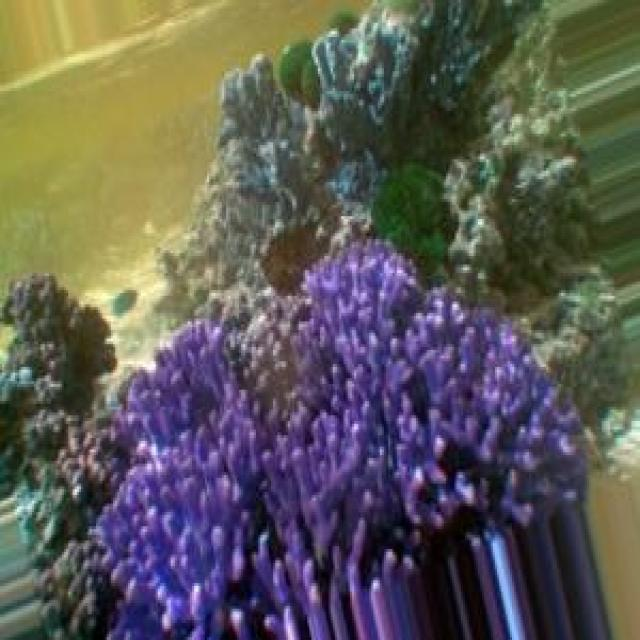Healthy: (93, 243, 590, 640), (135, 1, 600, 394), (289, 280, 579, 604), (50, 320, 263, 640), (93, 325, 259, 640), (295, 243, 423, 431)
